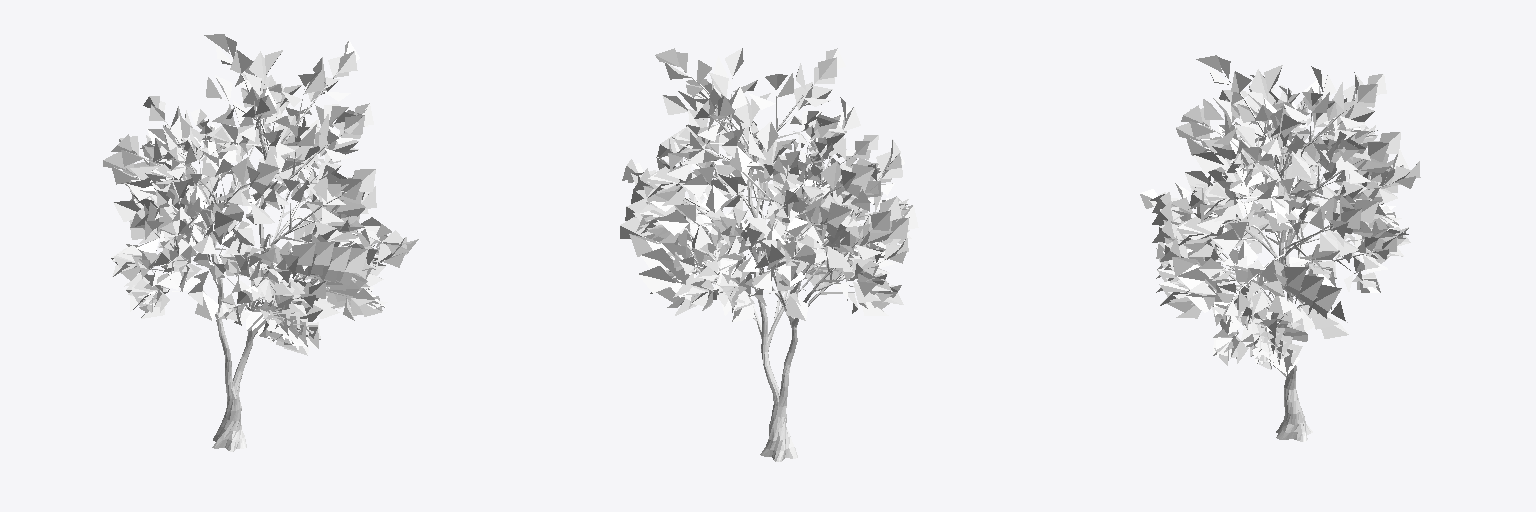
Rendered from elm9.obj.
The picture shows the model from 3 angles: view 1: azimuth 30°, elevation 25°; view 2: azimuth 150°, elevation 25°; view 3: azimuth 270°, elevation 25°; orthographic projection.
Parts seen in each view (by area): view 1: tree; view 2: tree; view 3: tree.
Boxes of the visible parts, box(x1,y1,x2,y2) form: tree: box(103, 34, 418, 451); tree: box(620, 48, 918, 461); tree: box(1140, 55, 1420, 441).
Bounding box in the file's own units: 578 × 774 × 524.